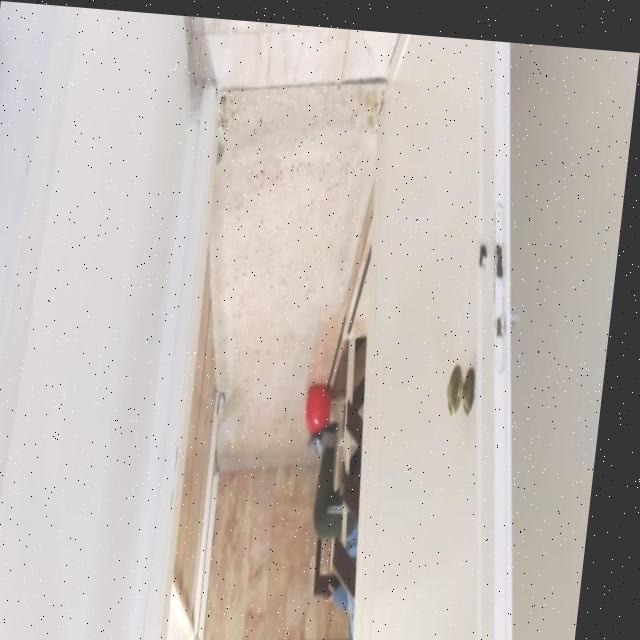balloon: (310, 374, 339, 432)
